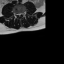CCS_stenosis: (19, 11, 20, 18)
LFS_stenosis: (22, 12, 23, 16)
LLS_stenosis: (20, 12, 21, 16)
RFS_stenosis: (16, 12, 17, 16)
RLS_normal: (17, 12, 19, 16)
